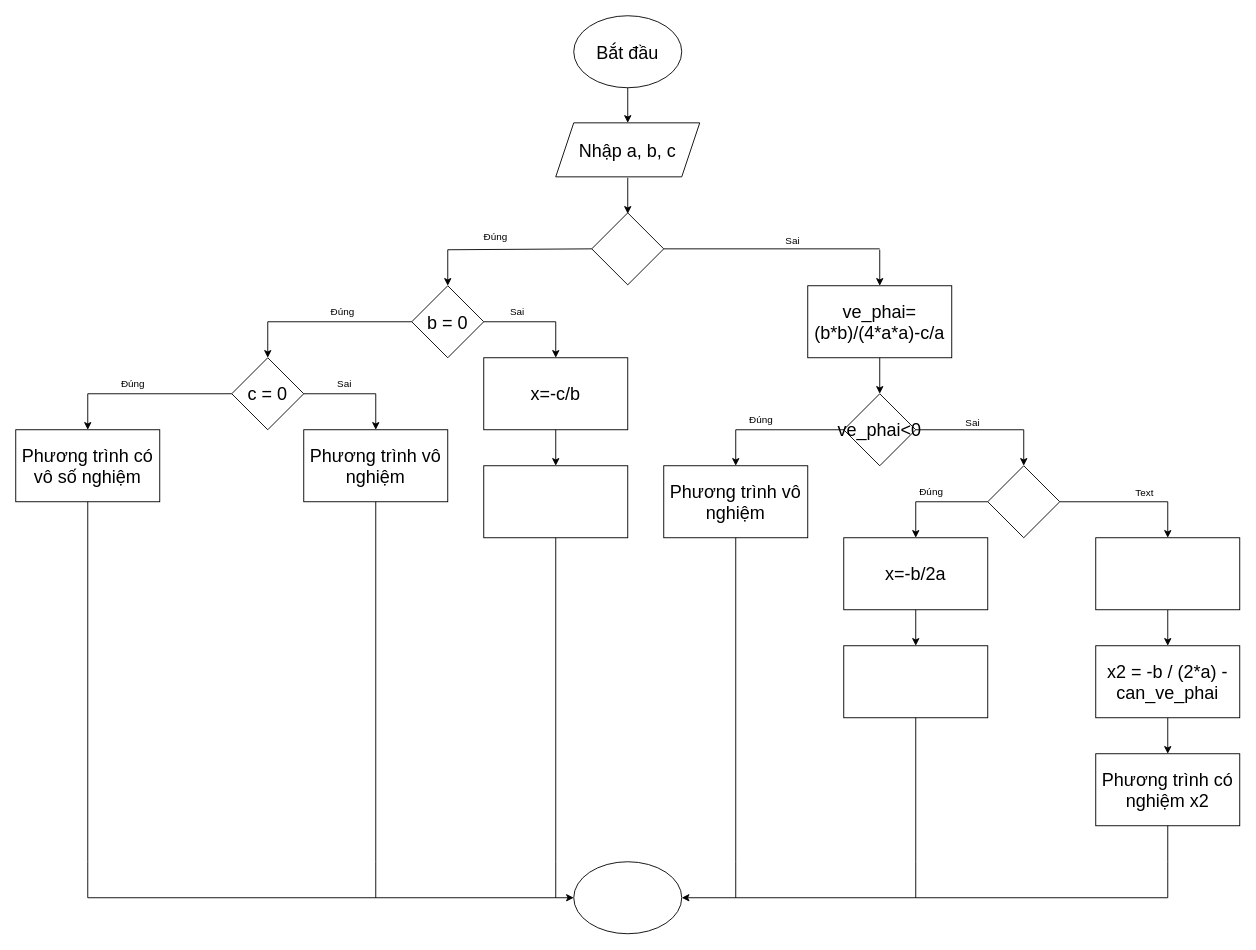
Some shapes in this 1256 by 950 pixel diagram are drawn without their labels. The shapes that lost their labels are listed below. From the top down, each one's centre as x and y in pixels, then its label:
At (627,248): "a = 0".
At (555,501): "Phương trình có nghiệm x".
At (1023,501): "ve_phai==0".
At (1167,573): "x1 = -b / (2*a) + can_ve_phai".
At (915,681): "Phương trình có nghiệm kép x".
At (627,897): "Kết thúc".
